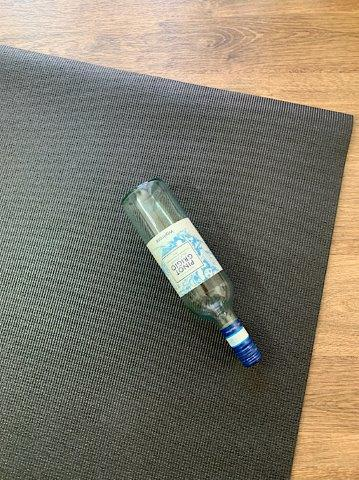botolkaca: (121, 176, 263, 366)
